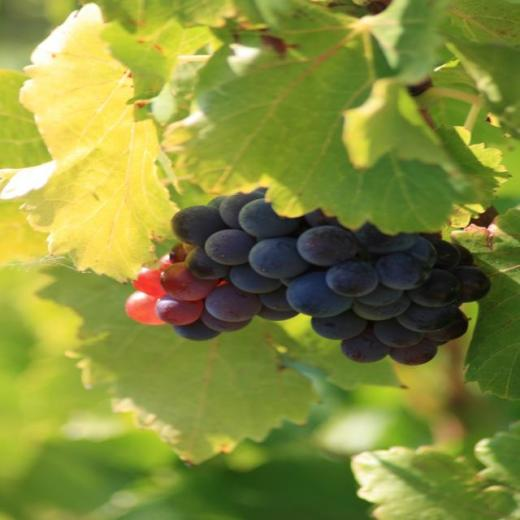Orange: (123, 188, 492, 366)
